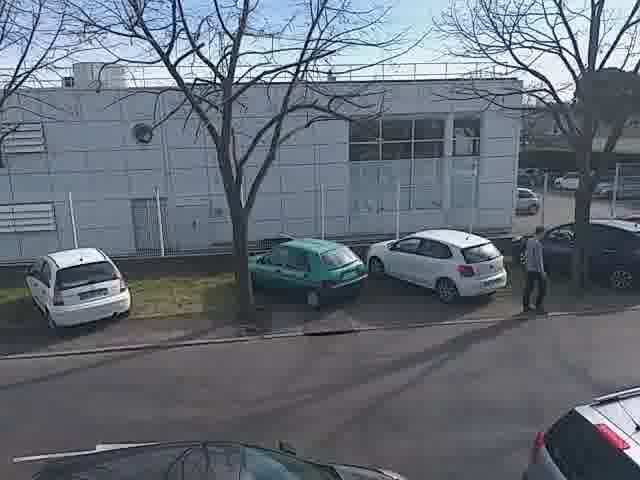persona: (516, 222, 556, 315)
